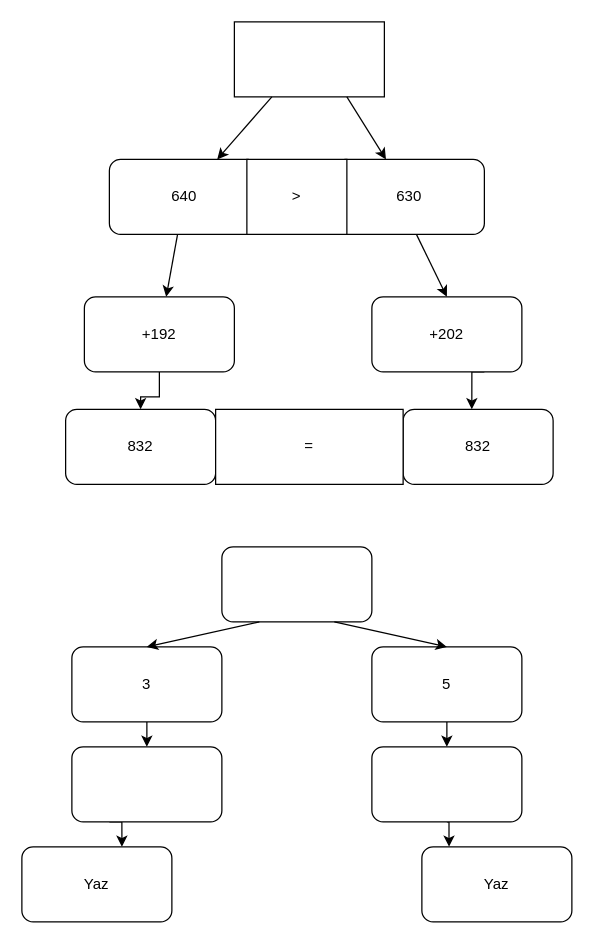
Some shapes in this 594 by 944 pixel diagram are drawn without their labels. Each missing label, with the centre of its shape:
"Digit numbers" goes at point (308, 59).
"March" goes at point (146, 784).
"May" goes at point (446, 784).
"Season" goes at point (296, 584).
